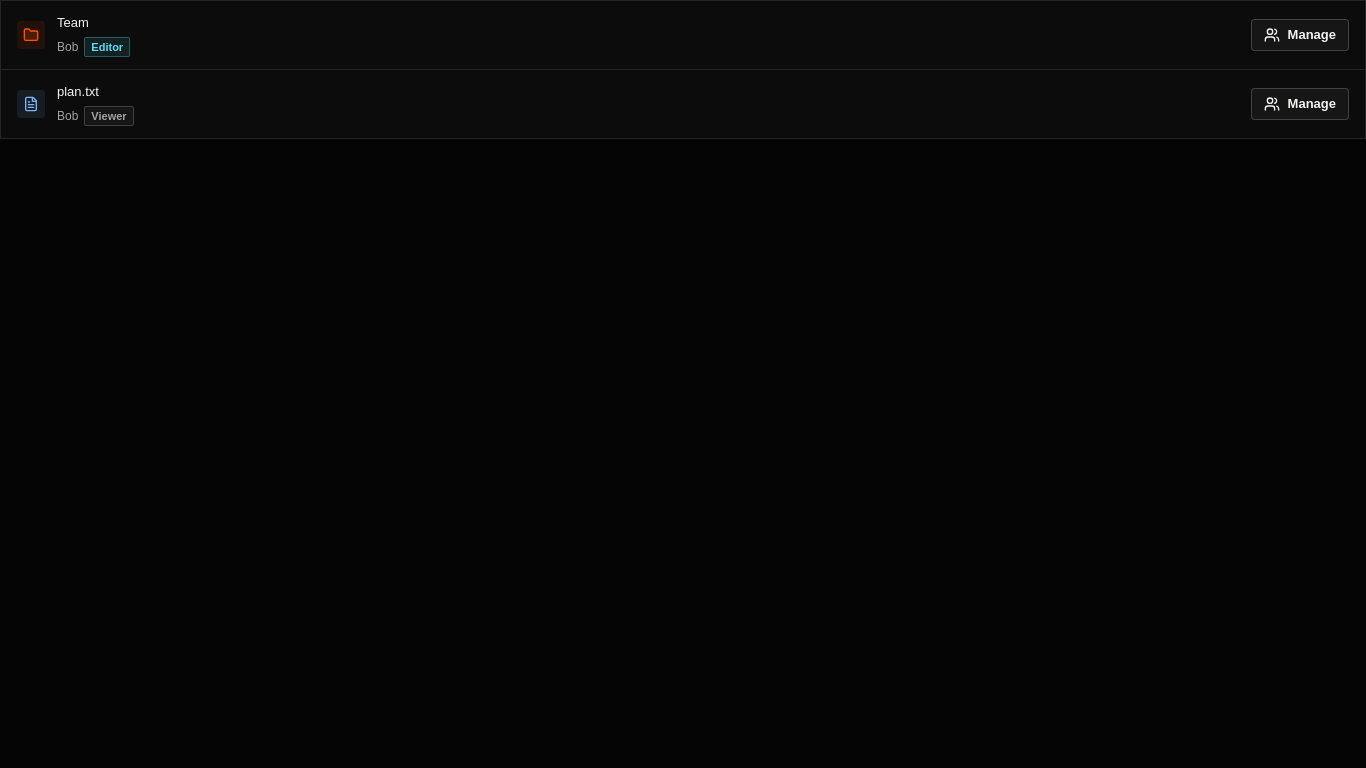
SharedByMe › lists items with who has access and opens access management
expect the text "plan.txt" is shown: met, box x1=57 y1=84 x2=99 y2=99
expect the text "Team" is shown: met, box x1=57 y1=15 x2=89 y2=30
Click the button with aria-label "Manage access to plan.txt".
click(1300, 104)  # box x1=1251 y1=88 x2=1349 y2=120
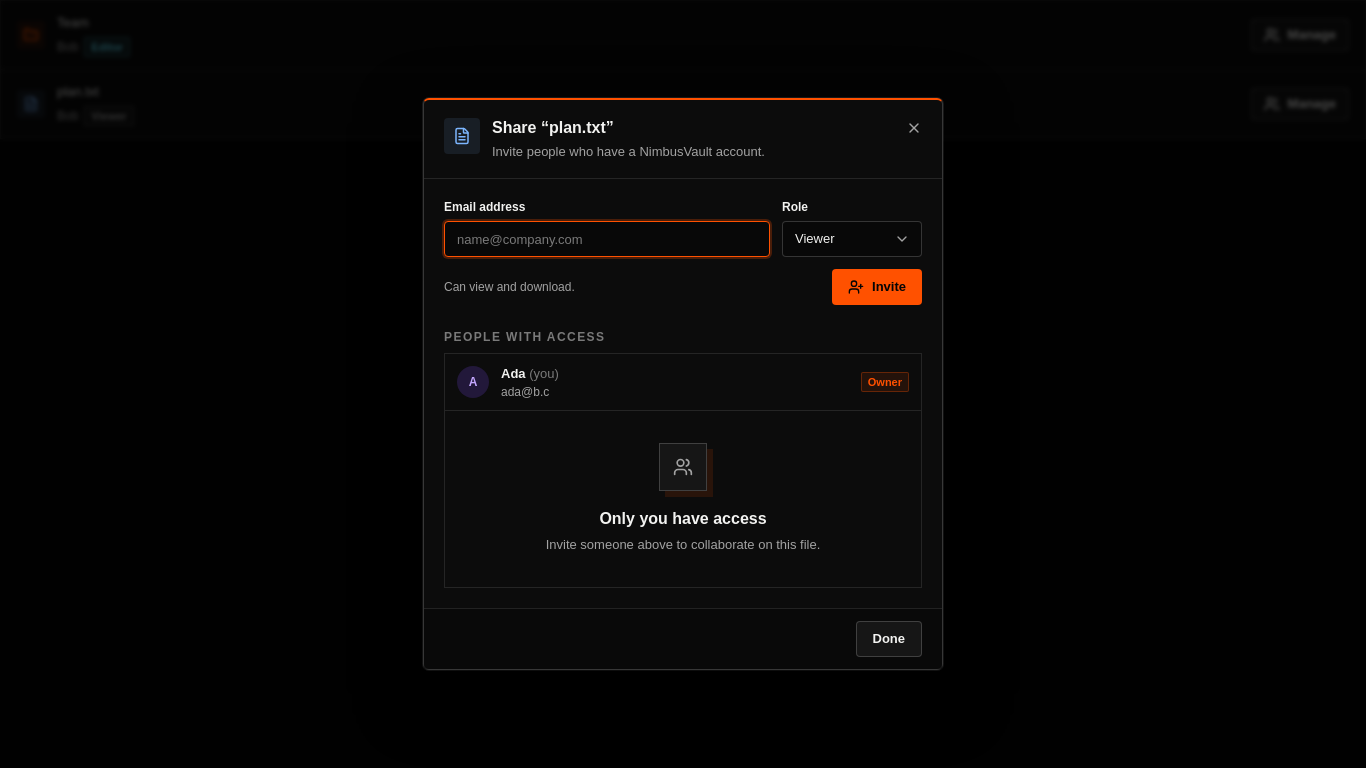
expect the dialog shows "plan.txt": met, box x1=549 y1=119 x2=606 y2=136
